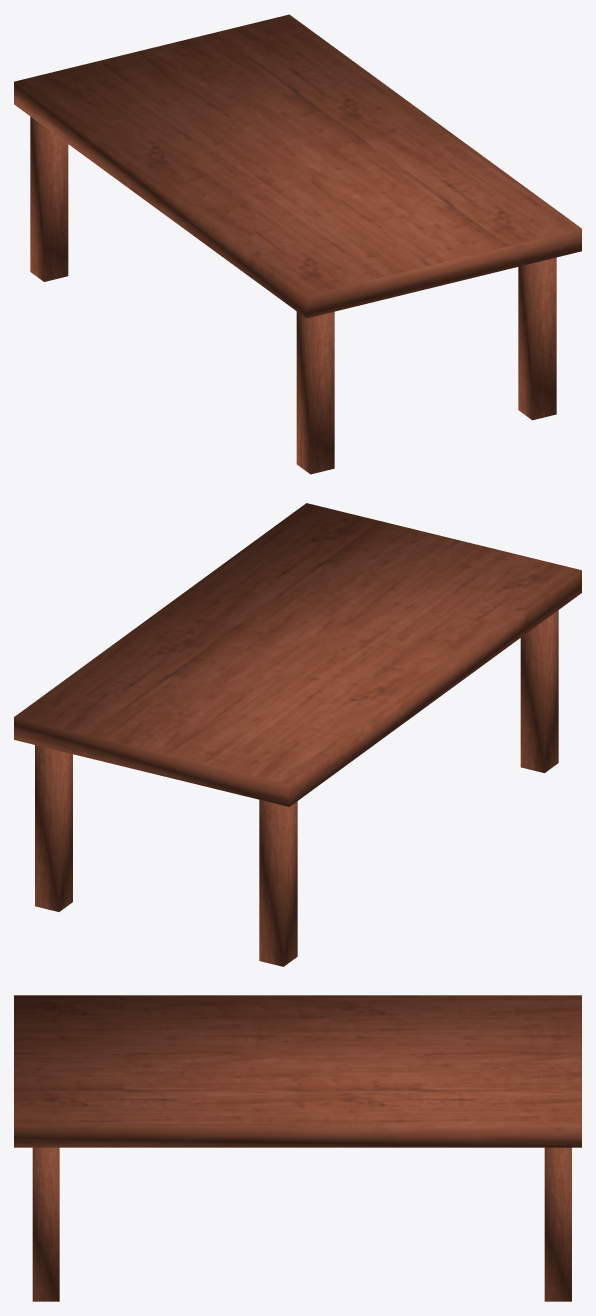
The model's file is table.fbx.
The picture shows the model from 3 angles, top to bottom: view 1: azimuth 30°, elevation 25°; view 2: azimuth 150°, elevation 25°; view 3: azimuth 270°, elevation 25°; orthographic projection. The views are drawn at different scales.
Visible parts, largest first — view 1: Cube; view 2: Cube; view 3: Cube.
Boxes of the visible parts, x1,y1,x2,y2 form: Cube: (14,14,581,474); Cube: (14,503,581,966); Cube: (14,995,581,1301).
Size of the model in its own units: 5.58 by 3.66 by 10.27.
